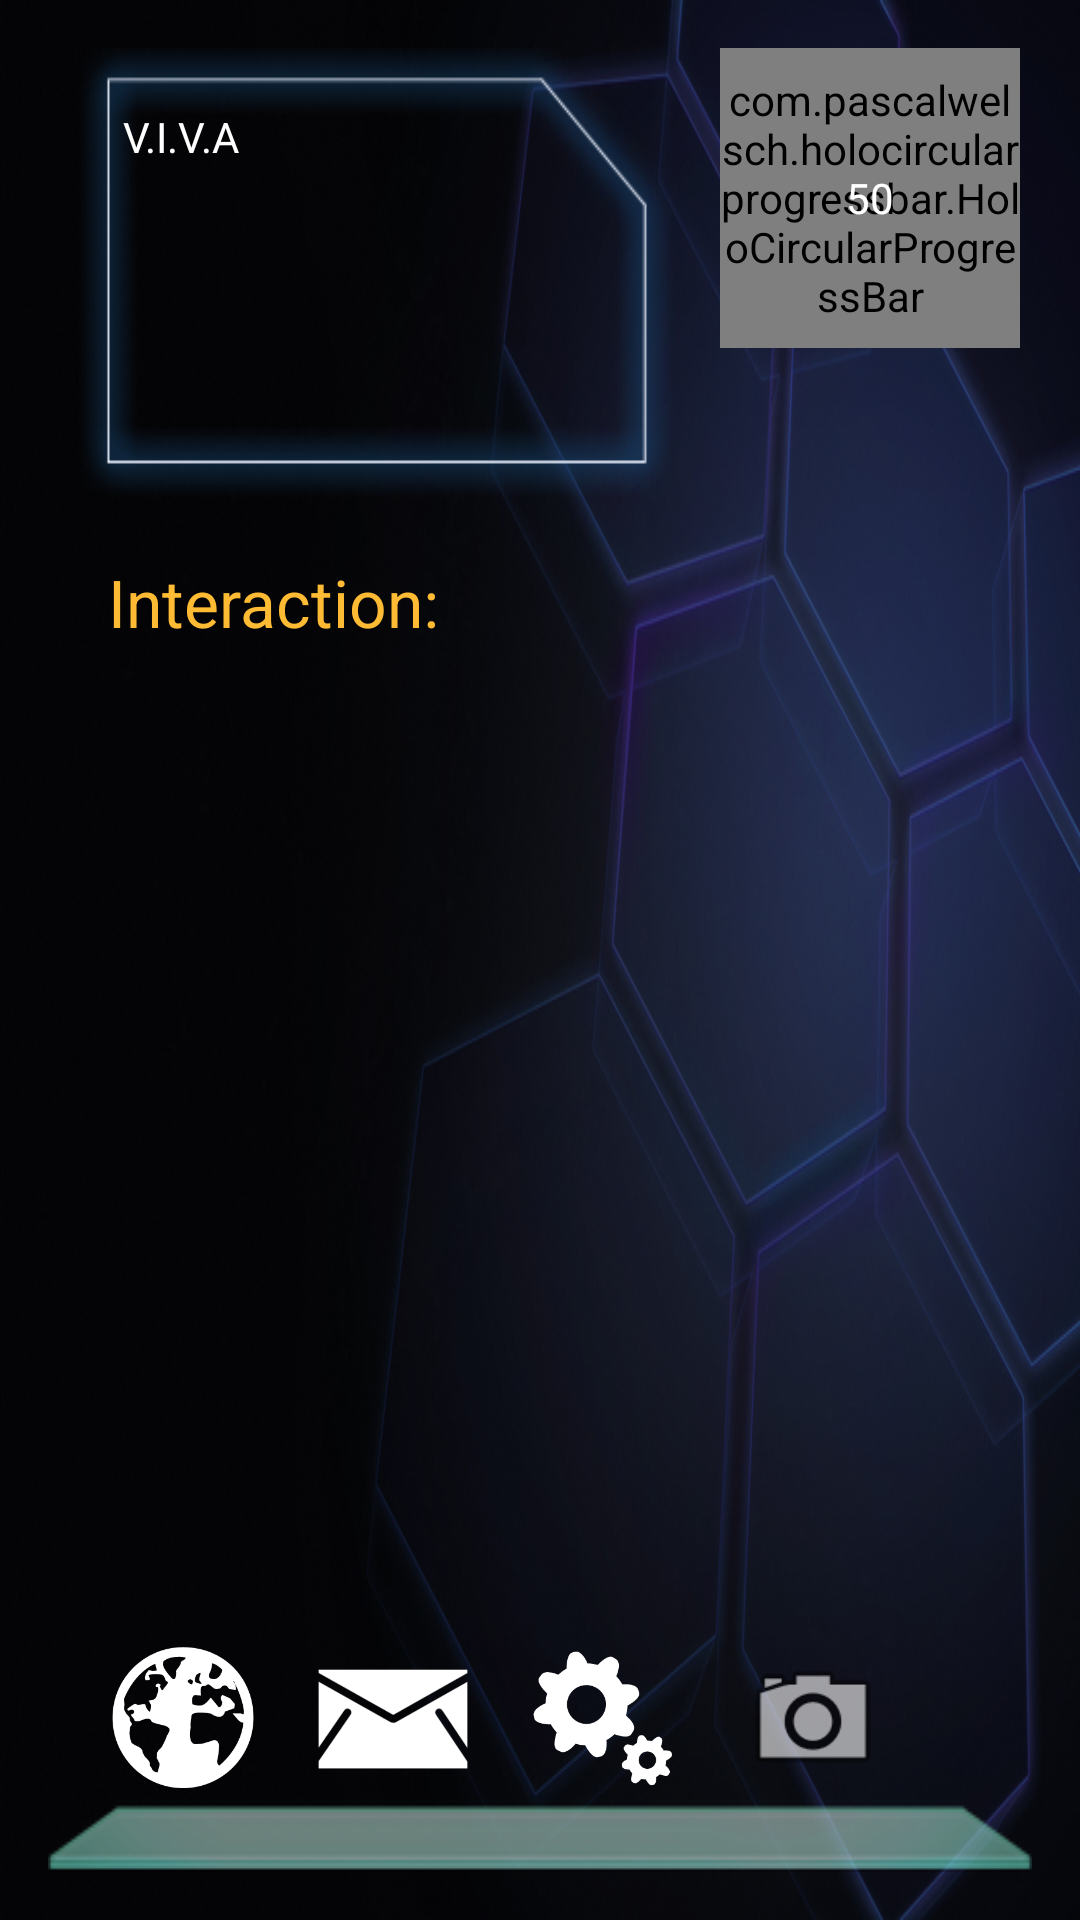

Named icons in this screenshot (1080 x 1920) and their bounding boxes, (x1, y1, x2, y2):
camera: (760, 1675, 866, 1759)
cogs: (528, 1651, 678, 1794)
earth: (112, 1647, 254, 1788)
mail: (318, 1681, 468, 1769)
